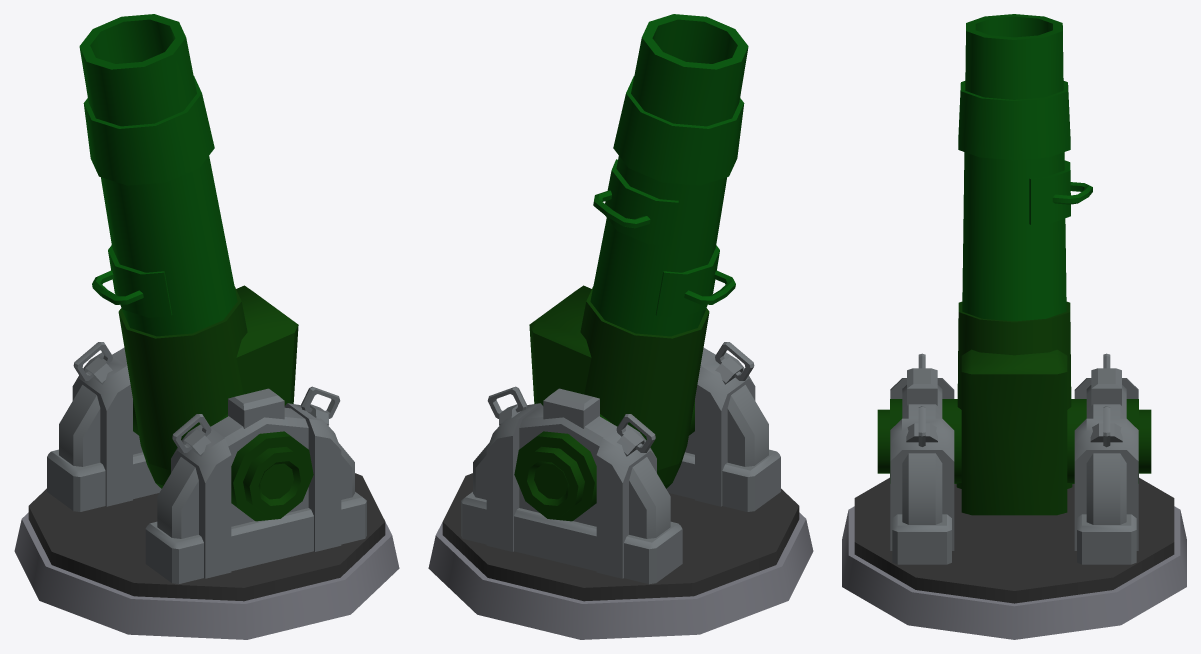
Rendered from mortar.glb.
3 renders of one model, left to right at view 1: azimuth 30°, elevation 25°; view 2: azimuth 150°, elevation 25°; view 3: azimuth 270°, elevation 25°, orthographic. The views are drawn at different scales.
Visible parts, largest first — view 1: mortar; view 2: mortar; view 3: mortar.
Boxes of the visible parts, x1,y1,x2,y2 form: mortar: (14,14,399,639); mortar: (428,14,813,639); mortar: (842,14,1186,639).
Size of the model in its own units: 2.82 by 4.37 by 2.68.
